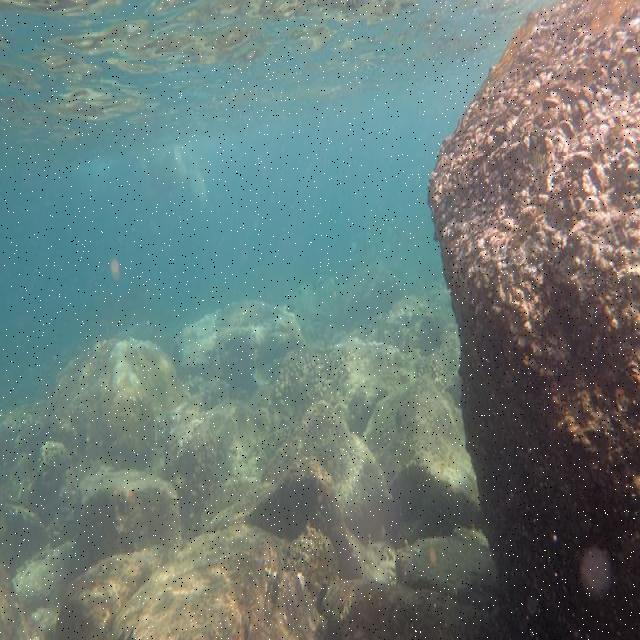reefs: (427, 0, 639, 638)
sea-floor: (106, 522, 364, 639), (326, 529, 517, 639), (362, 372, 481, 539), (48, 338, 204, 462), (55, 546, 179, 637), (77, 469, 181, 568)
